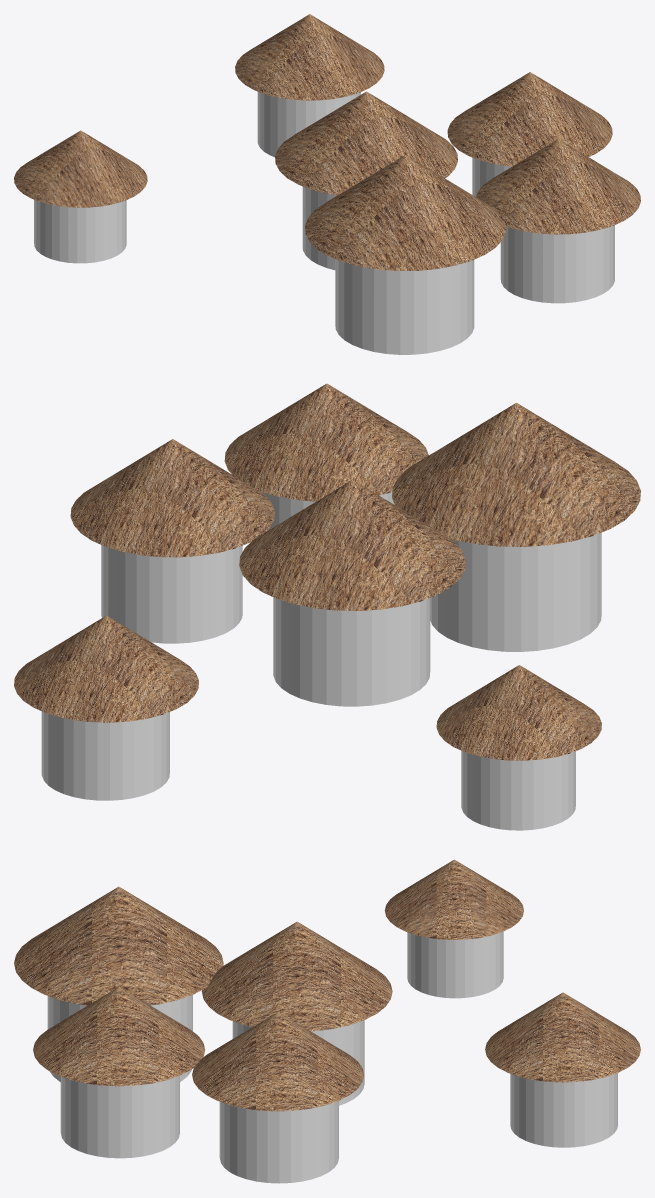
File: huts.glb
3 renders of one model, top to bottom at view 1: azimuth 30°, elevation 25°; view 2: azimuth 150°, elevation 25°; view 3: azimuth 270°, elevation 25°, orthographic. The views are drawn at different scales.
Parts seen in each view (by area): view 1: Cylinder.006, Cylinder.001, Cylinder.009, Cylinder, Cylinder.008, Cylinder.007; view 2: Cylinder.006, Cylinder, Cylinder.007, Cylinder.008, Cylinder.009, Cylinder.001; view 3: Cylinder.001, Cylinder.007, Cylinder.006, Cylinder.008, Cylinder, Cylinder.009.
Part boxes in pixels (<box>): Cylinder.006: <box>305,154,505,354</box>; Cylinder.001: <box>476,139,640,303</box>; Cylinder.009: <box>14,130,147,263</box>; Cylinder: <box>275,91,457,270</box>; Cylinder.008: <box>235,14,384,157</box>; Cylinder.007: <box>447,72,612,196</box>; Cylinder.006: <box>392,403,640,651</box>; Cylinder: <box>239,479,465,706</box>; Cylinder.007: <box>70,439,274,643</box>; Cylinder.008: <box>14,615,198,800</box>; Cylinder.009: <box>436,665,601,830</box>; Cylinder.001: <box>224,383,428,532</box>; Cylinder.001: <box>33,987,204,1158</box>; Cylinder.007: <box>192,1012,363,1183</box>; Cylinder.006: <box>14,886,223,1081</box>; Cylinder.008: <box>485,992,640,1147</box>; Cylinder: <box>201,921,392,1105</box>; Cylinder.009: <box>384,859,523,998</box>.
Size of the model in its own units: 9.86 by 3.28 by 10.41.
Materials: 2 (1 with a texture image).
